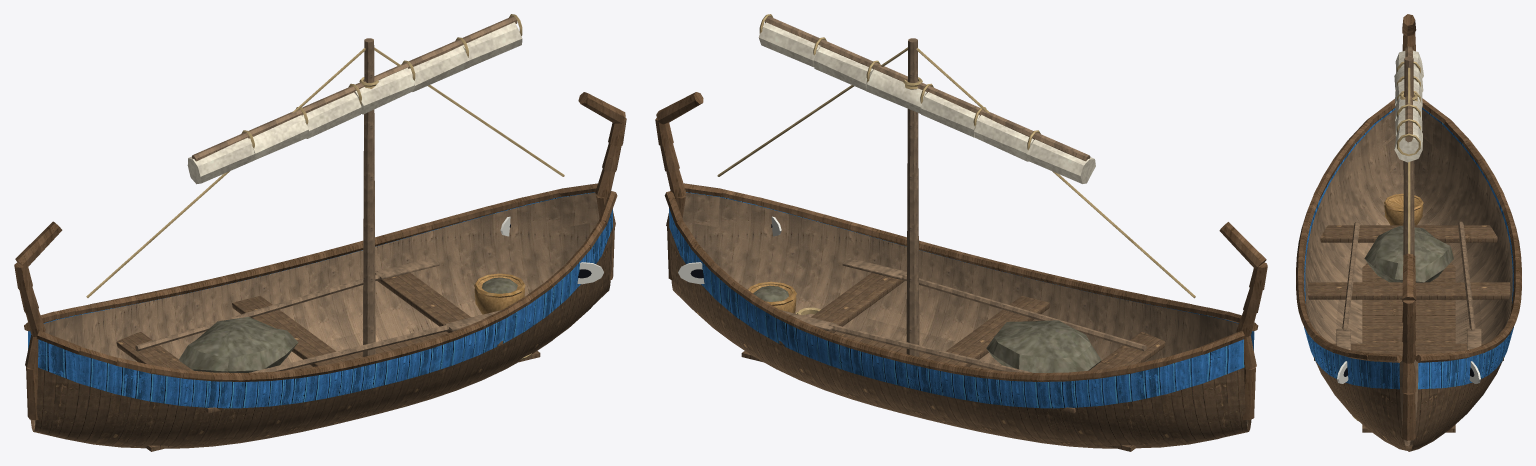
The model's file is country_boat_fishing.glb.
The picture shows the model from 3 angles, left to right: view 1: azimuth 30°, elevation 25°; view 2: azimuth 150°, elevation 25°; view 3: azimuth 270°, elevation 25°; orthographic projection. The views are drawn at different scales.
Parts seen in each view (by area): view 1: wood, plank, wood_dark, azure_wood, cloth_cream.006, net.001, rope, wicker; view 2: wood, plank, wood_dark, azure_wood, cloth_cream.006, net.001, rope, wicker; view 3: wood, plank, wood_dark, azure_wood, net.001, cloth_cream.006, rope, wicker, white.
Boxes of the visible parts, x1,y1,x2,y2 form: wood: (33, 16, 599, 426); plank: (30, 228, 612, 451); wood_dark: (14, 92, 626, 420); azure_wood: (28, 192, 612, 408); cloth_cream.006: (187, 22, 522, 184); net.001: (179, 277, 517, 372); rope: (86, 14, 564, 360); wicker: (474, 273, 525, 314); wood: (682, 16, 1248, 426); plank: (669, 228, 1251, 451); wood_dark: (655, 92, 1267, 420); azure_wood: (669, 192, 1254, 408); cloth_cream.006: (758, 22, 1095, 183); net.001: (753, 285, 1101, 372); rope: (717, 14, 1195, 315); wicker: (748, 281, 796, 313); wood: (1305, 46, 1512, 446); plank: (1305, 225, 1512, 451); wood_dark: (1296, 14, 1521, 440); azure_wood: (1304, 107, 1513, 389); net.001: (1364, 225, 1453, 282); cloth_cream.006: (1394, 50, 1423, 162); rope: (1352, 61, 1420, 420); wicker: (1384, 193, 1423, 225); white: (1337, 361, 1480, 383).
Bounding box in the file's own units: 6.28 × 3.52 × 2.18.
10 materials, 8 textured.
